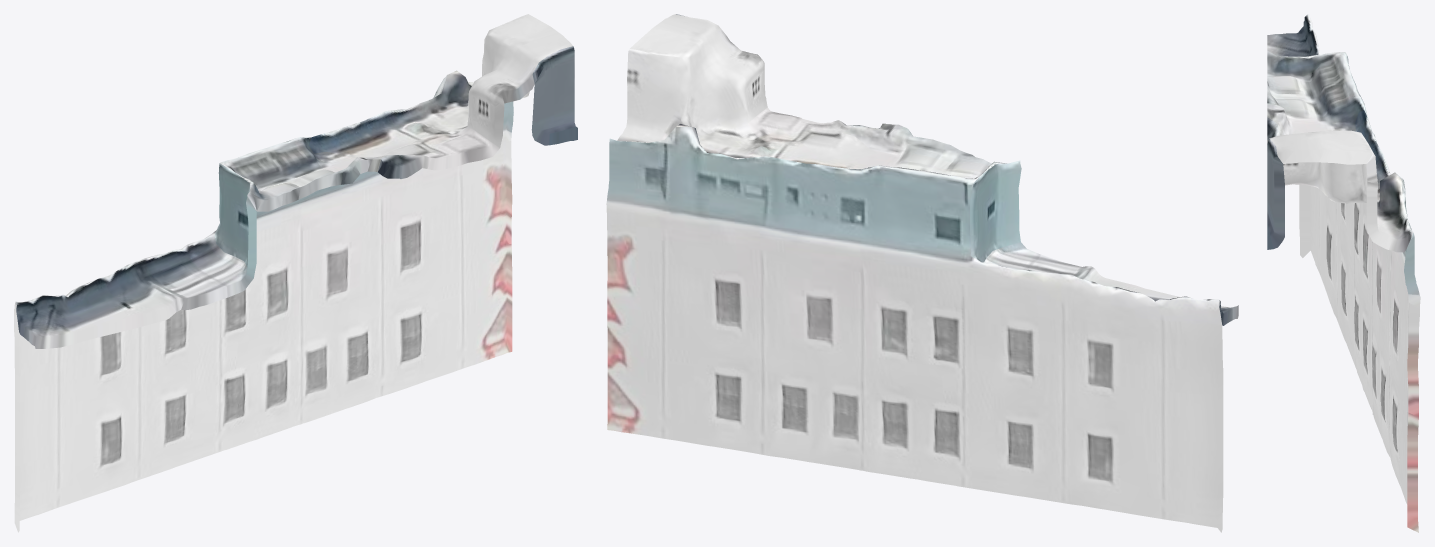
Rendered from z20-167757-405239-h1-yup-uvflip-v3-world.glb.
The picture shows the model from 3 angles, left to right: view 1: azimuth 30°, elevation 25°; view 2: azimuth 150°, elevation 25°; view 3: azimuth 270°, elevation 25°; orthographic projection. The views are drawn at different scales.
Bounding box in the file's own units: 30.16 × 19.44 × 6.92.
Materials: 1 (1 with a texture image).
